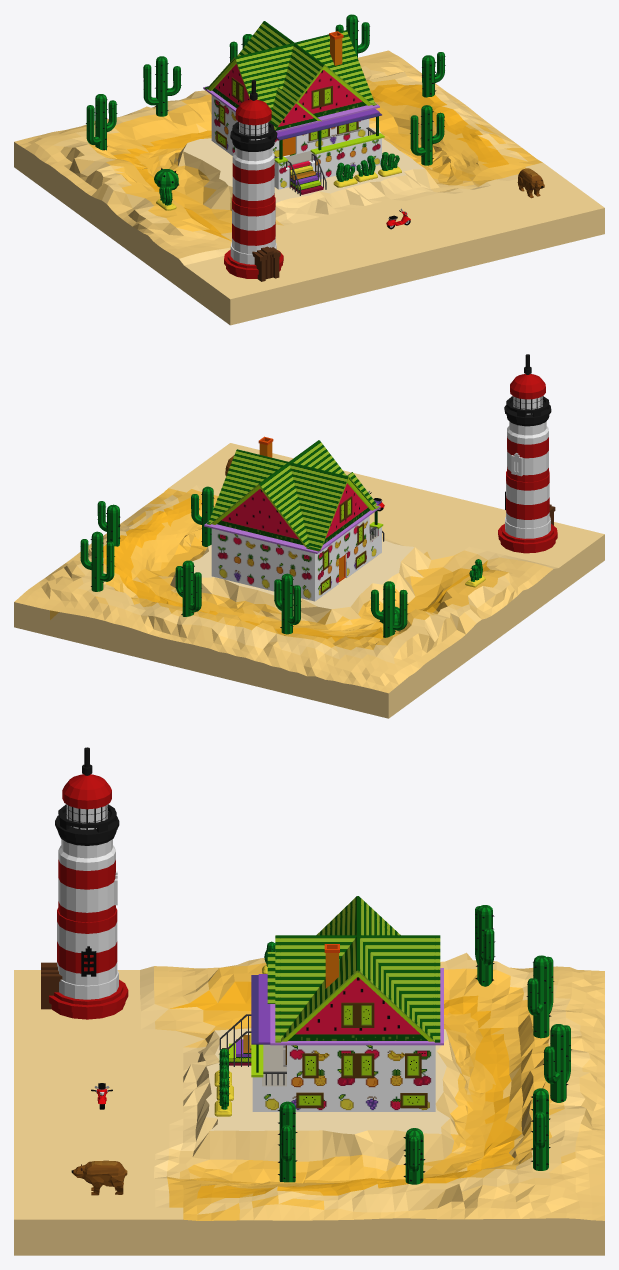
3 views of the same model, one above another, from view 1: azimuth 30°, elevation 25°; view 2: azimuth 150°, elevation 25°; view 3: azimuth 270°, elevation 25° (orthographic). The views are drawn at different scales.
Visible parts, largest first — view 1: Cube.001, Cube.1063, OBJRANDOM_LIGHTHOUSE, Cylinder.044, Cylinder.037, Cylinder.045, Cylinder.038, Cylinder.042, ANIMAL_OSO, Cylinder.039, Cylinder.041; view 2: Cube.001, Cube.1063, OBJRANDOM_LIGHTHOUSE, Cylinder.042, Cylinder.045, Cylinder.044, Cylinder.043, Cylinder.037, Cylinder.038; view 3: Cube.001, Cube.1063, OBJRANDOM_LIGHTHOUSE, Cylinder.044, Cylinder.043, Cylinder.045, Cylinder.037, Cylinder.042, ANIMAL_OSO, Cylinder.038.
Boxes of the visible parts, x1,y1,x2,y2 form: Cube.001: [14, 50, 604, 325]; Cube.1063: [203, 21, 384, 195]; OBJRANDOM_LIGHTHOUSE: [224, 80, 283, 281]; Cylinder.044: [143, 56, 181, 116]; Cylinder.037: [410, 105, 444, 165]; Cylinder.045: [86, 94, 117, 150]; Cylinder.038: [422, 52, 445, 97]; Cylinder.042: [335, 14, 369, 58]; ANIMAL_OSO: [517, 168, 544, 198]; Cylinder.039: [333, 162, 357, 187]; Cylinder.041: [378, 152, 401, 176]; Cube.001: [14, 443, 604, 718]; Cube.1063: [204, 436, 384, 601]; OBJRANDOM_LIGHTHOUSE: [498, 354, 557, 553]; Cylinder.042: [80, 531, 115, 591]; Cylinder.045: [370, 581, 408, 637]; Cylinder.044: [274, 573, 301, 634]; Cylinder.043: [175, 560, 201, 616]; Cylinder.037: [191, 486, 217, 546]; Cylinder.038: [97, 501, 120, 546]; Cube.001: [14, 952, 604, 1255]; Cube.1063: [219, 896, 443, 1111]; OBJRANDOM_LIGHTHOUSE: [41, 747, 128, 1019]; Cylinder.044: [526, 955, 554, 1038]; Cylinder.043: [543, 1024, 571, 1102]; Cylinder.045: [475, 905, 495, 986]; Cylinder.037: [277, 1101, 297, 1182]; Cylinder.042: [531, 1088, 550, 1170]; ANIMAL_OSO: [71, 1160, 127, 1195]; Cylinder.038: [403, 1128, 425, 1184].
Bounding box in the file's own units: 4002 × 2228 × 4001.
36 materials, 4 textured.
